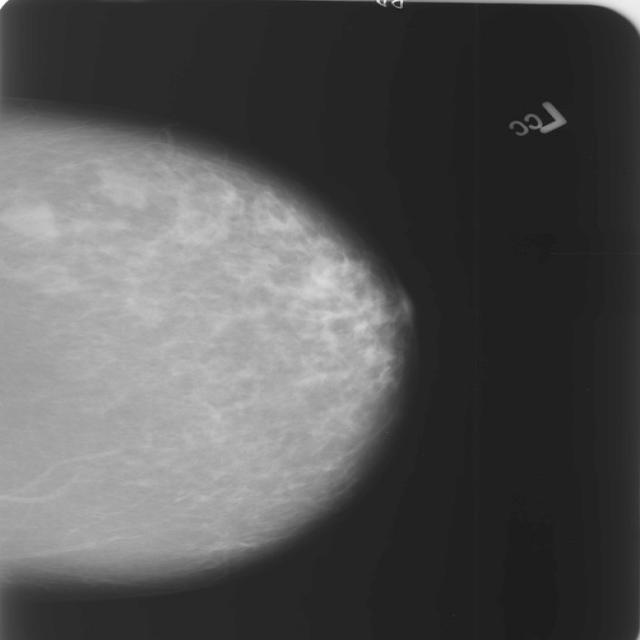tumour: (0, 203, 59, 243)
